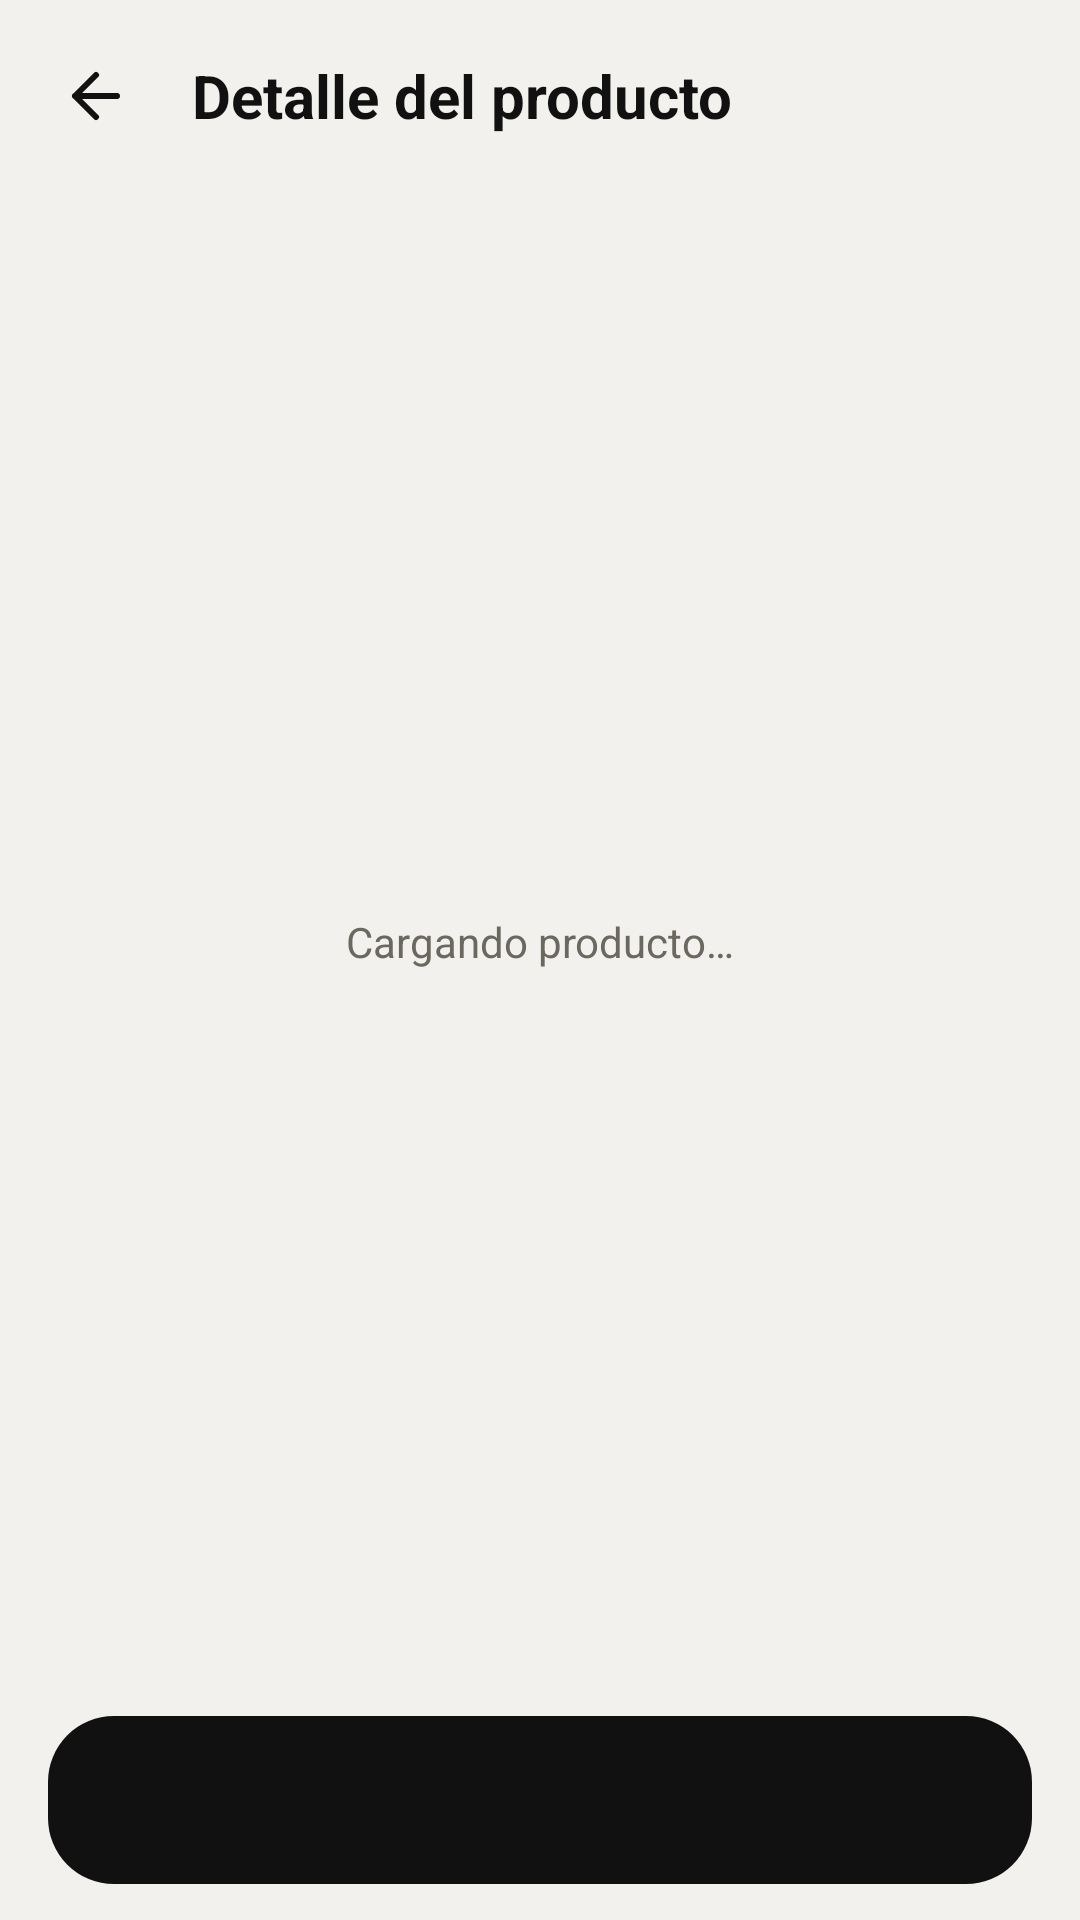

Locate icon controls on the screen. Image size 1080 × 1920, boxes as rect(x1, y1, x2, y2).
Volver: rect(72, 72, 120, 120)
